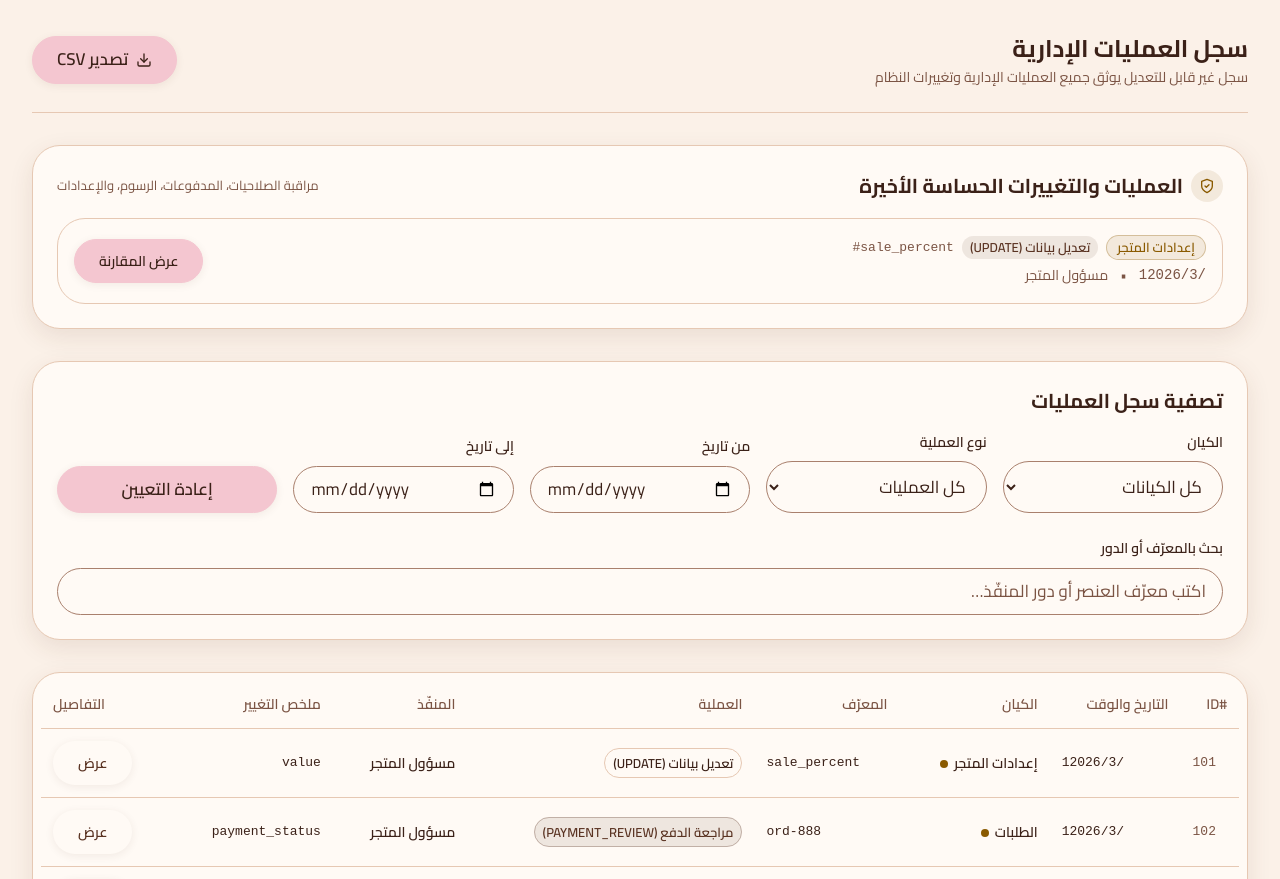
Test case: AuditPage Component (T-5.10) › opens details modal when clicking view button in table
The width and height of the screenshot is (1280, 879).
Expected: the text "101" is shown, [1180,728,1239,797]
Click the button "عرض المقارنة": (139, 261) [74,239,203,283]
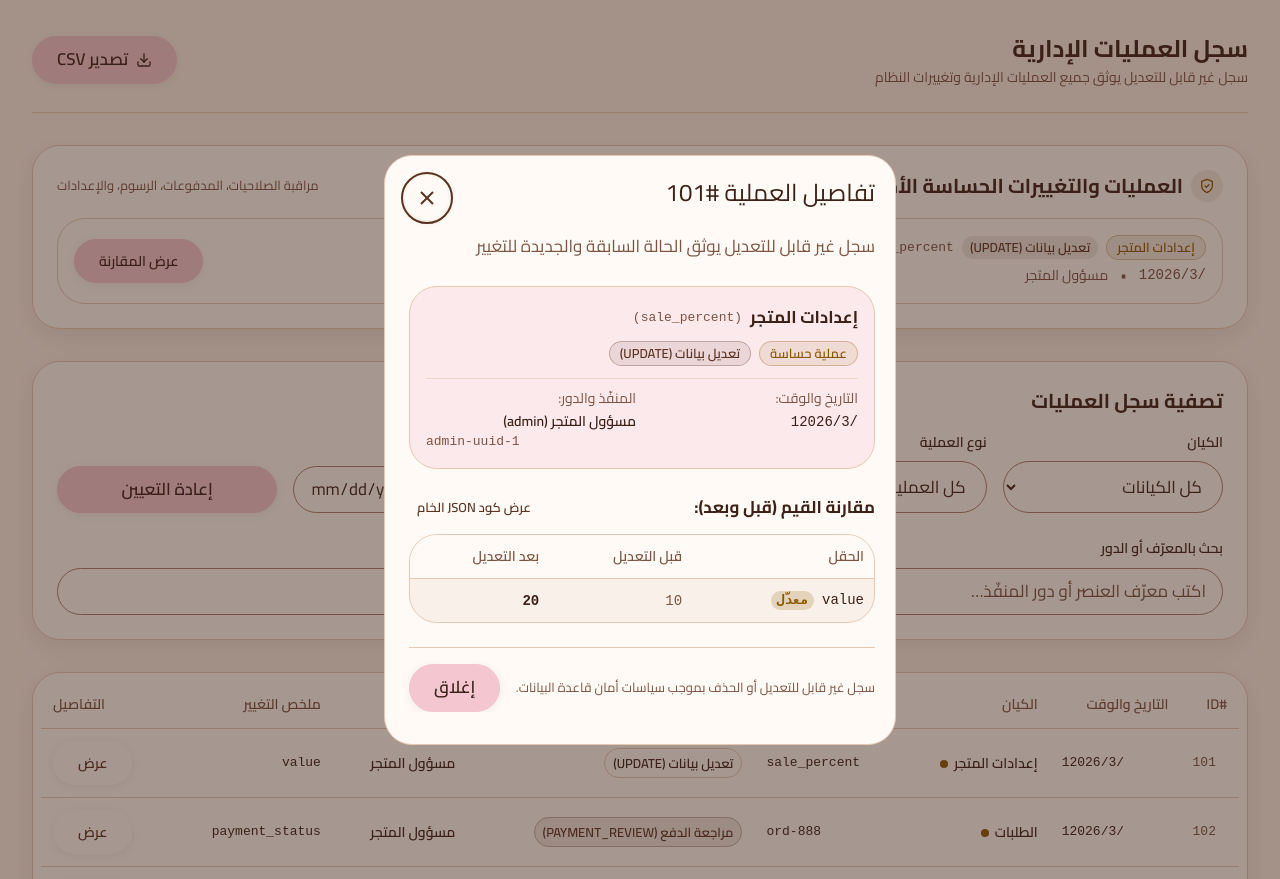
Expected: the text "سجل غير قابل للتعديل يوثق الحالة السابقة والجديدة للتغيير" is shown, [476,230,875,262]
